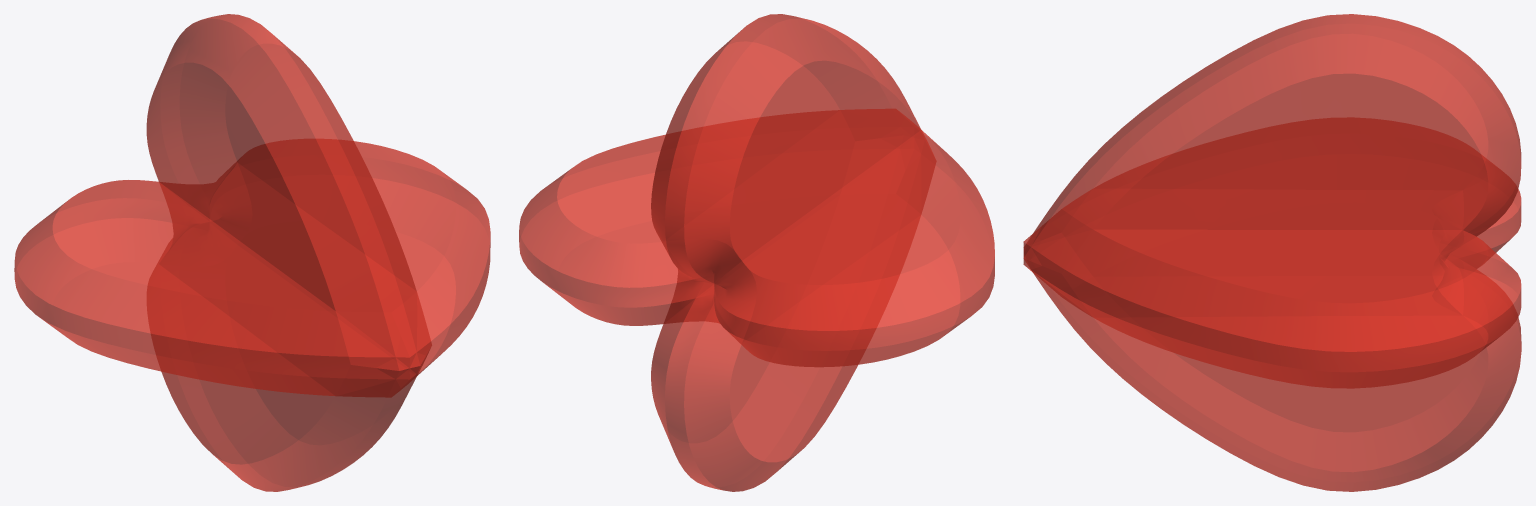
File: asset.glb
The picture shows the model from 3 angles, left to right: view 1: azimuth 30°, elevation 25°; view 2: azimuth 150°, elevation 25°; view 3: azimuth 270°, elevation 25°; orthographic projection. The views are drawn at different scales.
Visible parts, largest first — view 1: Circle.001; view 2: Circle.001; view 3: Circle.001.
Part boxes in pixels (x1,y1,x2,y2): Circle.001: [14, 14, 490, 491]; Circle.001: [519, 14, 994, 491]; Circle.001: [1023, 14, 1521, 491].
Size of the model in its own units: 59.64 by 59.64 by 57.44.
